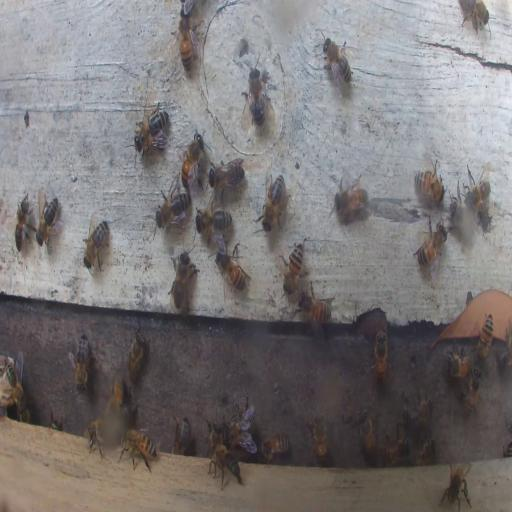bee: (298, 286, 332, 343), (134, 104, 170, 156), (463, 165, 492, 228), (156, 180, 192, 230), (168, 249, 196, 313), (320, 35, 353, 89), (117, 428, 156, 473), (334, 175, 368, 225), (440, 461, 474, 511), (260, 173, 288, 232), (415, 220, 447, 270), (216, 245, 250, 291), (35, 193, 62, 250), (209, 446, 243, 491), (226, 399, 256, 450), (209, 154, 245, 196), (180, 131, 206, 188), (83, 217, 110, 271), (245, 65, 269, 124), (195, 205, 232, 243), (413, 162, 444, 204), (2, 360, 26, 412), (283, 239, 305, 295), (380, 426, 410, 466), (14, 191, 33, 253), (128, 327, 148, 383), (355, 409, 377, 458), (403, 394, 433, 429), (460, 367, 481, 416), (175, 15, 193, 72), (72, 332, 89, 389), (450, 198, 475, 236), (259, 432, 291, 460), (462, 2, 490, 33), (310, 415, 328, 462), (476, 314, 494, 360), (446, 349, 472, 379), (85, 420, 106, 456), (374, 328, 388, 382), (109, 374, 126, 416), (172, 418, 190, 456), (415, 436, 435, 464), (208, 422, 223, 451), (20, 400, 30, 422)
